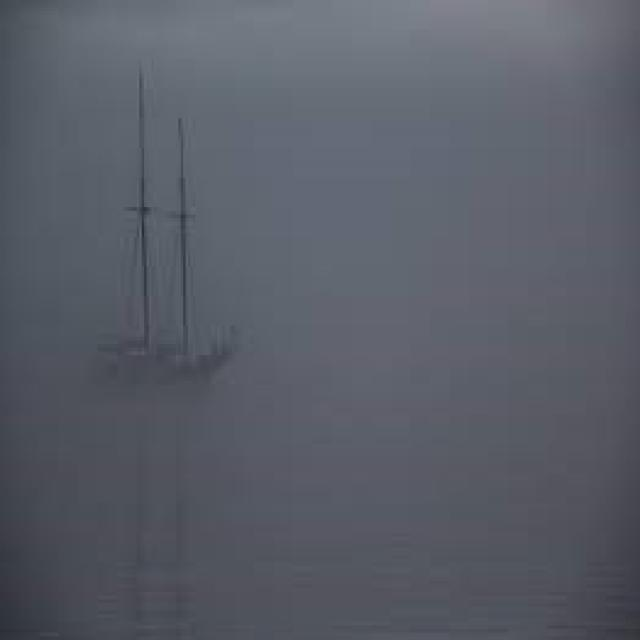fishing boat: (102, 88, 244, 416)
